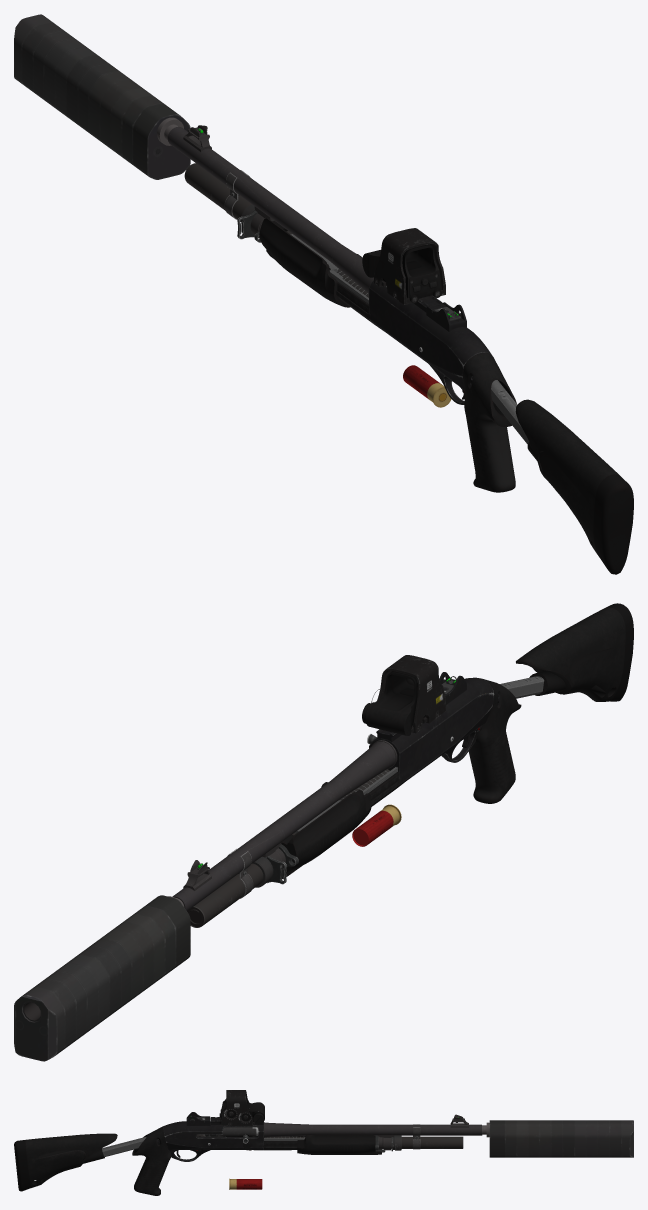
Rendered from sidearm.glb.
The picture shows the model from 3 angles, top to bottom: view 1: azimuth 30°, elevation 25°; view 2: azimuth 150°, elevation 25°; view 3: azimuth 270°, elevation 25°; orthographic projection. The views are drawn at different scales.
Parts seen in each view (by area): view 1: Benelli_M3_B_M3_S_90_S_1_0, Silencel_Low_B_M3_S_90_S_3_0, Benelli_M3_B_M3_S_90_S_2_0, Eotech_B_M3_S_90_S_3_0, forend_Low_B_M3_S_90_S_2_0, Shell_Low_B_M3_S_90_S_1_0; view 2: Benelli_M3_B_M3_S_90_S_1_0, Silencel_Low_B_M3_S_90_S_3_0, Benelli_M3_B_M3_S_90_S_2_0, Eotech_B_M3_S_90_S_3_0, forend_Low_B_M3_S_90_S_2_0, Shell_Low_B_M3_S_90_S_1_0; view 3: Benelli_M3_B_M3_S_90_S_1_0, Silencel_Low_B_M3_S_90_S_3_0, Benelli_M3_B_M3_S_90_S_2_0, forend_Low_B_M3_S_90_S_2_0, Eotech_B_M3_S_90_S_3_0, Hinge_Low_B_M3_S_90_S_2_0, Shell_Low_B_M3_S_90_S_1_0.
Boxes of the visible parts, bbox=[...] form: Benelli_M3_B_M3_S_90_S_1_0: bbox=[224, 170, 633, 574]; Silencel_Low_B_M3_S_90_S_3_0: bbox=[14, 14, 190, 179]; Benelli_M3_B_M3_S_90_S_2_0: bbox=[167, 125, 422, 351]; Eotech_B_M3_S_90_S_3_0: bbox=[362, 228, 445, 304]; forend_Low_B_M3_S_90_S_2_0: bbox=[258, 218, 361, 307]; Shell_Low_B_M3_S_90_S_1_0: bbox=[403, 365, 451, 407]; Benelli_M3_B_M3_S_90_S_1_0: bbox=[227, 603, 633, 898]; Silencel_Low_B_M3_S_90_S_3_0: bbox=[14, 895, 190, 1061]; Benelli_M3_B_M3_S_90_S_2_0: bbox=[172, 736, 453, 927]; Eotech_B_M3_S_90_S_3_0: bbox=[362, 655, 445, 735]; forend_Low_B_M3_S_90_S_2_0: bbox=[275, 782, 371, 879]; Shell_Low_B_M3_S_90_S_1_0: bbox=[352, 804, 401, 846]; Benelli_M3_B_M3_S_90_S_1_0: bbox=[14, 1112, 420, 1195]; Silencel_Low_B_M3_S_90_S_3_0: bbox=[482, 1120, 633, 1157]; Benelli_M3_B_M3_S_90_S_2_0: bbox=[208, 1114, 481, 1151]; forend_Low_B_M3_S_90_S_2_0: bbox=[297, 1134, 385, 1154]; Eotech_B_M3_S_90_S_3_0: bbox=[219, 1090, 264, 1125]; Hinge_Low_B_M3_S_90_S_2_0: bbox=[216, 1127, 304, 1143]; Shell_Low_B_M3_S_90_S_1_0: bbox=[229, 1178, 262, 1189].
Size of the model in its own units: 0.0575 by 0.1791 by 1.
Materials: 3 (3 with a texture image).
